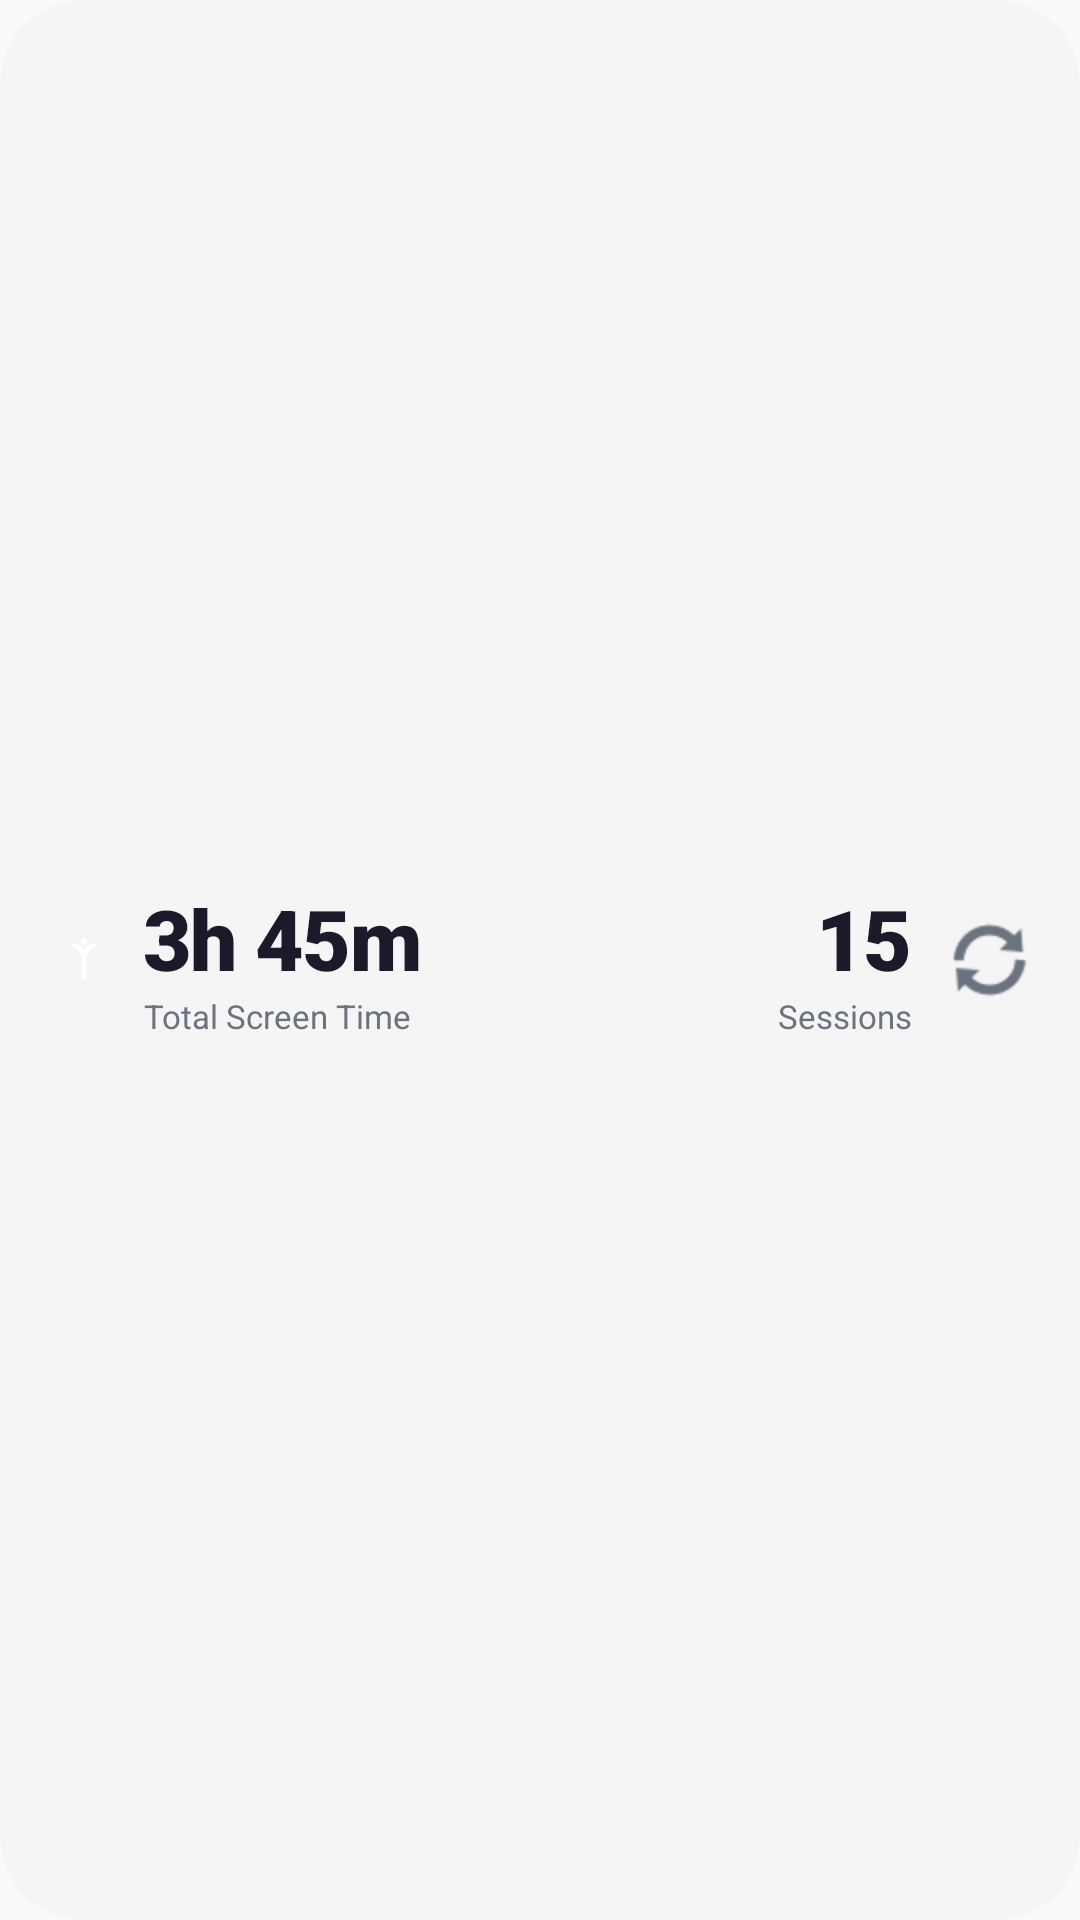

Named icons in this screenshot (1080x1920) and their centers, (x=x, y=y):
Refresh: (x=989, y=960)
